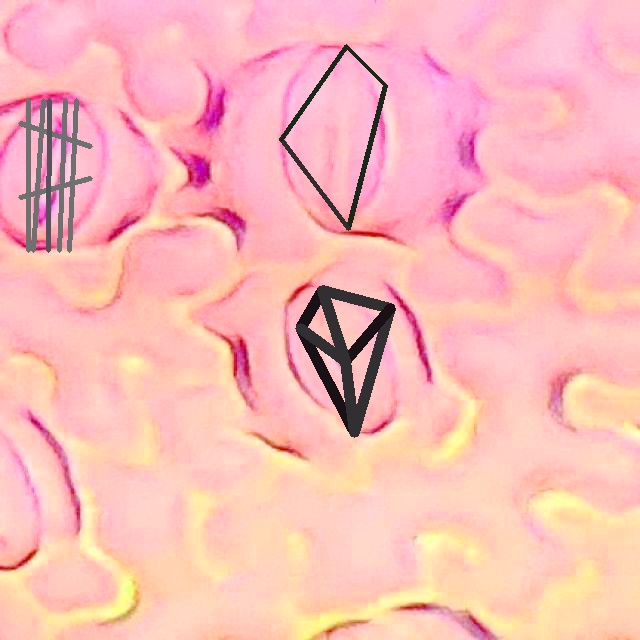close: (279, 44, 387, 230), (295, 285, 395, 437)
open: (18, 99, 91, 251)
